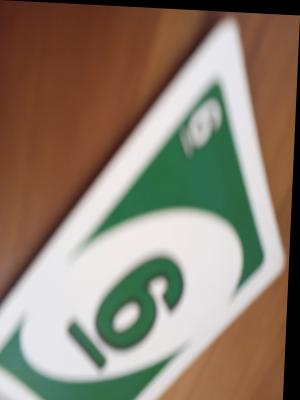green: (119, 111, 235, 332)
